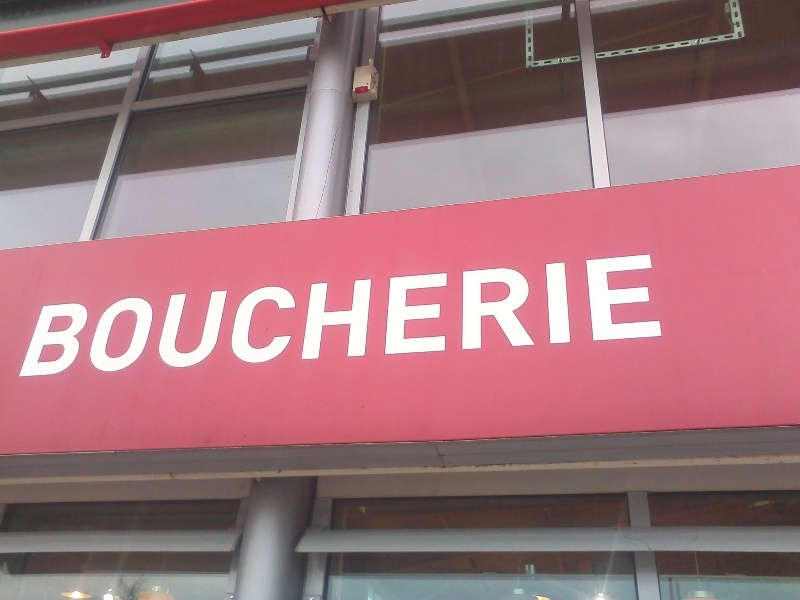text: (49, 253, 64, 378), (65, 253, 80, 378), (81, 253, 96, 378), (97, 253, 112, 378), (113, 253, 128, 378), (129, 253, 144, 378), (145, 253, 160, 378), (161, 253, 176, 378), (177, 253, 192, 378), (193, 253, 208, 378), (209, 253, 224, 378), (225, 253, 240, 378), (241, 253, 256, 378), (257, 253, 272, 378), (273, 253, 288, 378), (289, 253, 304, 378), (305, 253, 320, 378), (321, 253, 336, 378), (337, 253, 352, 378), (353, 253, 368, 378), (369, 253, 384, 378), (385, 253, 400, 378), (401, 253, 416, 378), (417, 253, 432, 378), (433, 253, 448, 378), (449, 253, 464, 378), (465, 253, 480, 378), (481, 253, 496, 378), (497, 253, 512, 378), (513, 253, 528, 378), (529, 253, 544, 378), (545, 253, 560, 378), (561, 253, 576, 378), (577, 253, 592, 378), (593, 253, 608, 378), (609, 253, 624, 378), (625, 253, 640, 378), (641, 253, 656, 378), (657, 253, 664, 378), (42, 253, 48, 378)
